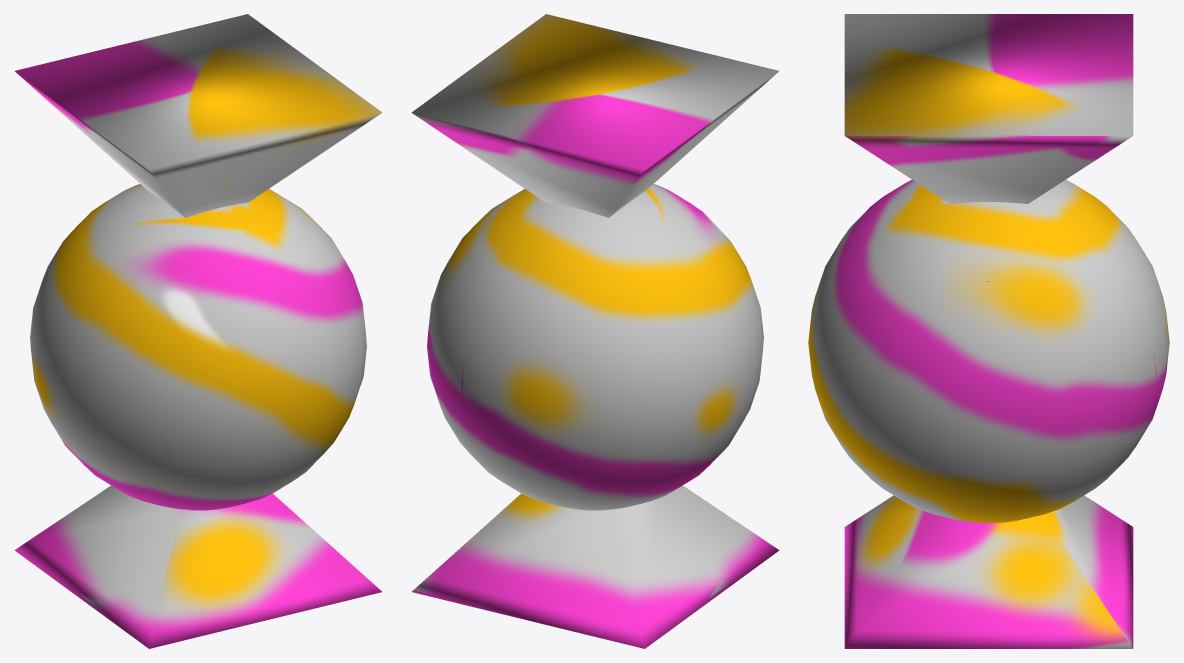
The model's file is candy.glb.
The picture shows the model from 3 angles, left to right: view 1: azimuth 30°, elevation 25°; view 2: azimuth 150°, elevation 25°; view 3: azimuth 270°, elevation 25°; orthographic projection. The views are drawn at different scales.
Parts seen in each view (by area): view 1: Sphere; view 2: Sphere; view 3: Sphere.
Part boxes in pixels (box(x1,y1,x2,y2)): Sphere: box(14, 14, 382, 648); Sphere: box(411, 14, 779, 648); Sphere: box(808, 14, 1169, 648).
Bounding box in the file's own units: 2 × 3.13 × 2.
1 material, 1 textured.
